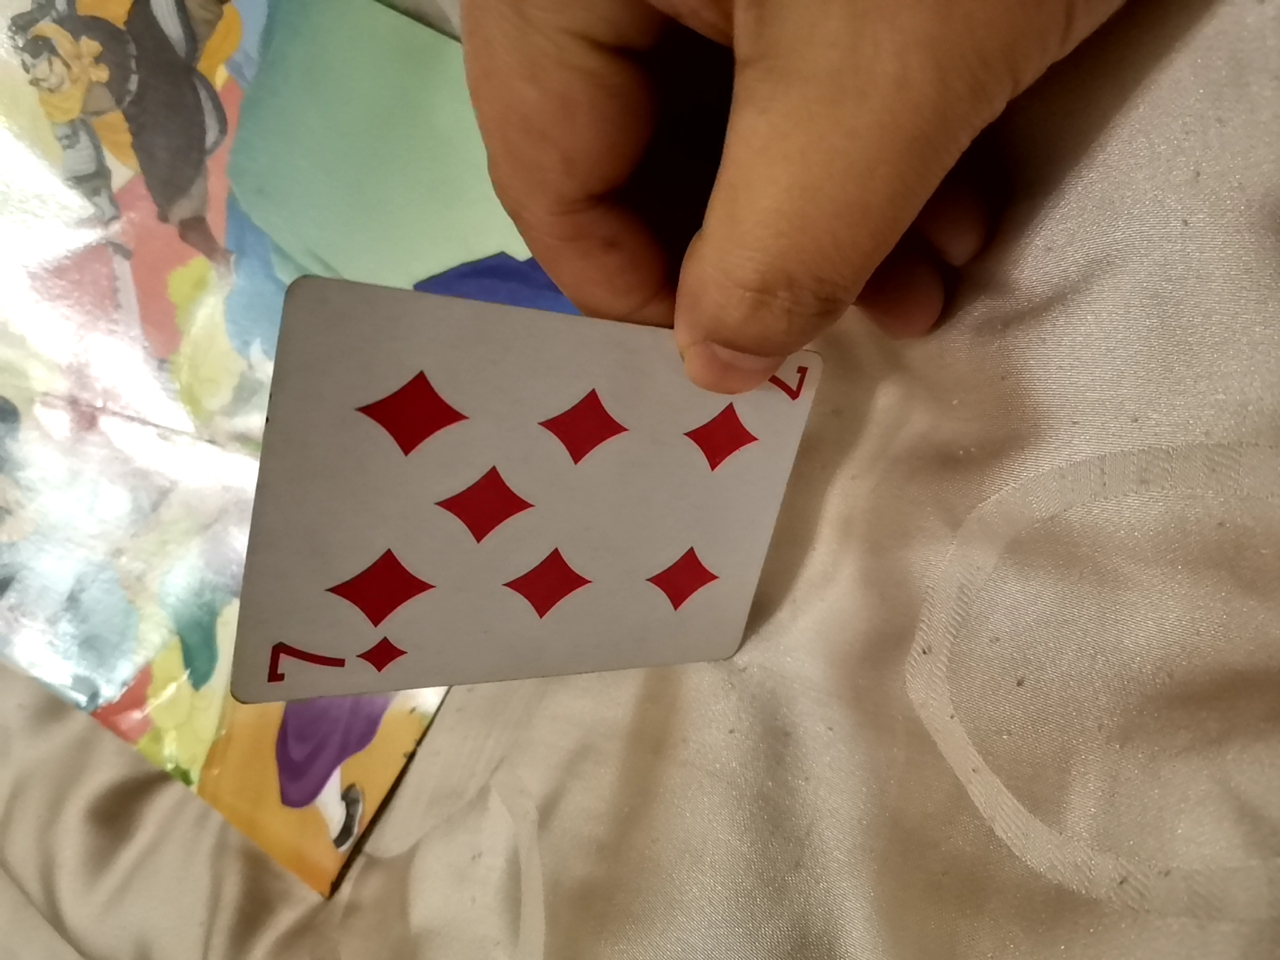fk 7: (312, 313, 809, 690)
